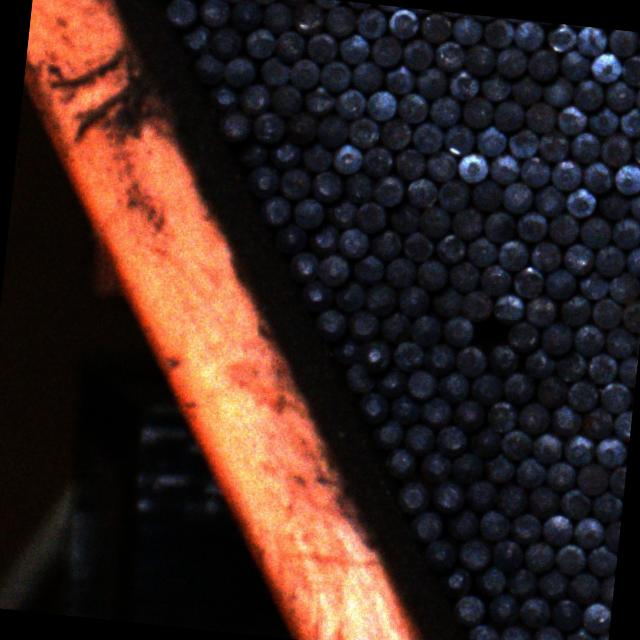tool: (242, 161, 280, 200), (212, 106, 252, 143), (465, 422, 503, 460), (456, 534, 492, 574), (394, 478, 431, 516), (448, 592, 487, 628), (538, 320, 575, 357), (546, 596, 582, 634), (576, 213, 614, 249), (467, 176, 505, 212), (530, 181, 568, 217), (598, 130, 634, 168), (355, 388, 391, 425), (363, 280, 399, 317), (556, 290, 593, 326), (535, 126, 571, 163), (297, 278, 335, 313), (428, 282, 463, 320), (398, 228, 436, 263), (501, 564, 537, 600), (408, 508, 444, 544), (520, 538, 556, 574), (574, 459, 610, 495), (448, 396, 484, 432), (514, 398, 550, 434), (548, 402, 584, 438), (330, 278, 366, 314), (314, 252, 350, 288), (412, 256, 448, 292), (510, 263, 546, 299), (526, 236, 562, 272), (384, 198, 420, 234), (276, 165, 312, 201), (408, 118, 444, 154), (570, 75, 606, 111), (176, 20, 212, 56), (597, 377, 632, 414), (313, 111, 348, 148), (380, 61, 417, 96), (520, 294, 558, 328), (272, 221, 310, 255), (558, 241, 596, 275), (437, 562, 472, 598), (421, 536, 456, 572), (462, 477, 498, 512), (447, 449, 483, 484), (372, 362, 408, 397), (421, 340, 456, 376), (552, 348, 588, 383), (394, 283, 430, 318), (306, 221, 342, 256), (366, 227, 402, 262), (512, 209, 548, 244), (340, 168, 375, 204), (370, 172, 406, 207), (392, 146, 428, 181), (413, 63, 448, 99), (462, 42, 497, 78), (367, 416, 404, 450), (467, 370, 504, 404), (519, 344, 556, 378), (462, 234, 499, 268), (249, 110, 286, 144), (501, 369, 536, 404), (506, 318, 541, 353), (481, 208, 516, 243), (435, 176, 470, 211), (472, 121, 507, 156), (459, 94, 494, 129), (320, 3, 355, 38), (534, 566, 570, 600), (552, 540, 586, 576), (443, 506, 479, 540), (538, 512, 574, 546), (430, 479, 466, 513), (527, 484, 561, 520), (535, 372, 569, 408), (486, 341, 520, 377), (312, 307, 348, 341), (344, 308, 380, 342), (284, 247, 318, 283), (477, 262, 513, 296), (496, 236, 530, 272), (288, 195, 324, 229), (352, 200, 388, 234), (449, 204, 483, 240), (402, 176, 438, 210), (596, 186, 632, 220), (454, 150, 490, 184), (299, 82, 335, 116), (584, 102, 620, 136), (190, 50, 224, 86), (208, 23, 242, 59), (336, 30, 370, 66), (368, 33, 402, 69), (352, 5, 388, 39), (415, 205, 452, 238), (568, 128, 601, 165), (516, 594, 550, 629), (381, 446, 416, 480), (489, 538, 524, 572), (507, 511, 542, 545), (572, 514, 606, 549), (496, 481, 530, 516), (481, 450, 516, 484), (401, 422, 436, 456), (499, 427, 534, 461), (530, 431, 564, 466), (386, 392, 421, 426), (565, 378, 600, 412), (453, 344, 488, 378), (377, 309, 412, 343), (408, 312, 442, 347), (439, 314, 474, 348), (490, 291, 524, 326), (575, 266, 610, 300), (256, 193, 291, 227), (516, 154, 551, 188), (580, 158, 615, 192), (377, 116, 412, 150), (440, 122, 475, 156), (268, 82, 303, 116), (426, 94, 461, 128), (523, 99, 557, 134), (349, 58, 384, 92), (445, 66, 479, 101), (400, 35, 434, 70), (493, 44, 528, 78), (524, 46, 558, 81), (587, 50, 622, 84), (289, 0, 323, 35), (417, 10, 452, 44), (592, 435, 628, 468), (542, 267, 578, 300), (308, 170, 344, 203), (487, 150, 520, 186), (548, 157, 584, 190), (256, 53, 292, 86), (316, 58, 352, 91), (578, 600, 612, 634), (565, 570, 599, 604), (559, 486, 593, 520), (416, 448, 450, 482), (542, 458, 576, 492), (561, 432, 595, 466), (483, 399, 517, 433), (434, 368, 468, 402), (590, 296, 624, 330), (592, 244, 626, 278), (500, 180, 534, 214), (564, 184, 598, 218), (298, 138, 332, 172), (360, 144, 394, 178), (505, 124, 539, 158), (332, 86, 366, 120), (394, 90, 428, 124), (492, 98, 526, 132), (554, 102, 588, 136), (221, 54, 255, 88), (286, 56, 320, 90), (478, 68, 512, 102), (509, 71, 543, 105), (540, 72, 574, 106), (272, 28, 306, 62), (556, 48, 590, 82), (607, 268, 640, 303), (240, 25, 275, 58), (328, 332, 360, 368), (204, 78, 240, 110), (226, 0, 263, 31), (590, 489, 624, 522), (513, 454, 546, 488), (418, 395, 452, 428), (358, 339, 391, 373), (600, 324, 634, 357), (460, 288, 493, 322), (268, 137, 302, 170), (424, 148, 458, 181), (364, 88, 398, 121), (304, 29, 338, 62), (432, 38, 465, 72), (512, 19, 546, 52), (403, 368, 438, 400), (572, 322, 604, 357), (321, 196, 356, 228), (586, 350, 617, 386), (476, 507, 509, 540), (391, 340, 424, 373), (383, 255, 416, 288), (346, 115, 379, 148), (237, 82, 270, 115), (261, 0, 294, 33), (434, 422, 466, 456), (337, 225, 369, 259), (432, 232, 466, 264), (330, 141, 362, 175), (284, 110, 316, 144), (544, 22, 578, 54), (610, 214, 640, 250), (486, 592, 518, 625), (472, 564, 504, 597), (585, 544, 618, 576), (235, 136, 268, 168), (603, 78, 636, 110), (386, 6, 418, 39), (450, 12, 483, 44), (481, 16, 514, 48), (350, 252, 384, 283), (194, 0, 230, 29), (343, 362, 375, 394), (546, 212, 578, 244), (446, 260, 480, 290), (581, 406, 612, 438), (575, 26, 607, 56), (606, 28, 638, 58), (612, 161, 640, 195), (162, 0, 196, 28), (615, 105, 640, 138), (614, 352, 638, 386), (610, 406, 632, 441), (618, 51, 640, 86), (494, 620, 530, 640), (527, 622, 566, 640), (464, 621, 498, 640), (621, 297, 640, 331), (596, 573, 615, 606), (602, 518, 620, 550), (623, 242, 640, 275), (608, 464, 626, 495), (564, 625, 595, 640), (627, 185, 640, 219), (630, 132, 640, 167), (633, 80, 640, 115), (245, 0, 277, 5)
void: (463, 304, 521, 358)
